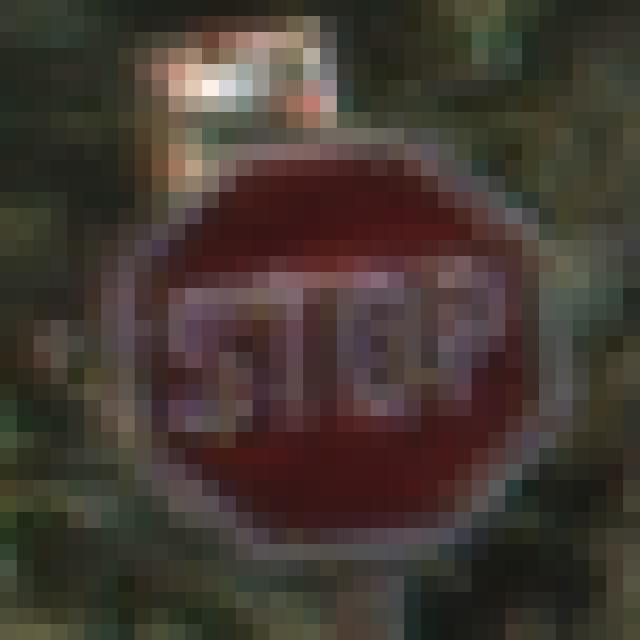STOP: (85, 97, 540, 561)
